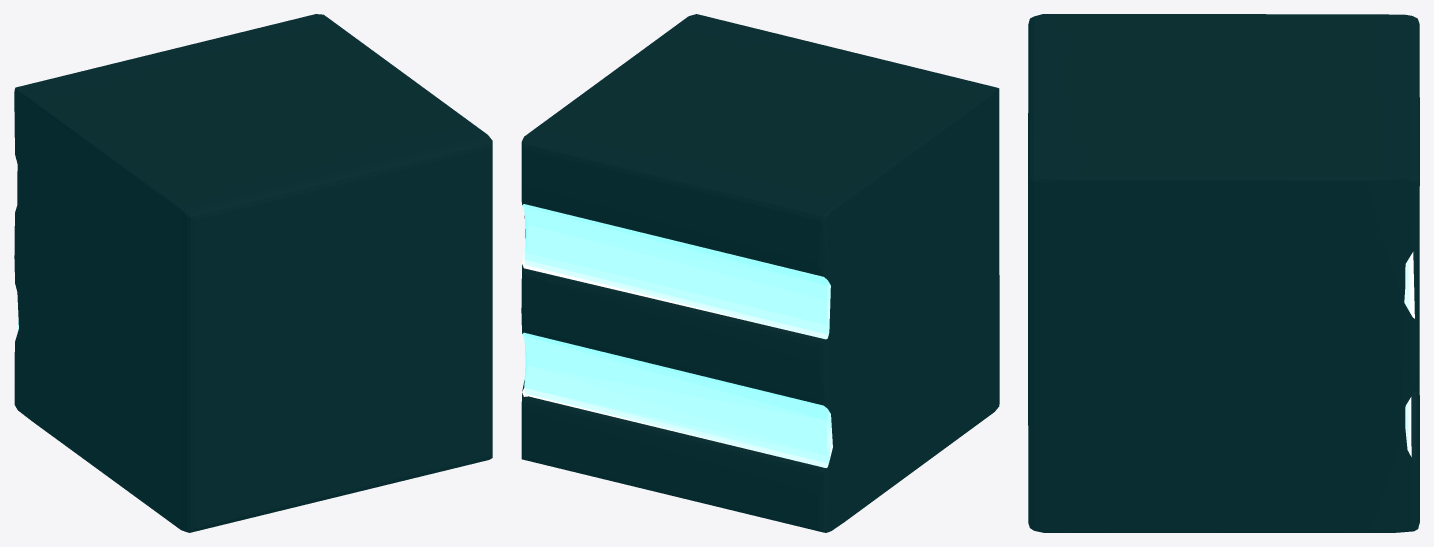
File: unilateral.glb
3 renders of one model, left to right at view 1: azimuth 30°, elevation 25°; view 2: azimuth 150°, elevation 25°; view 3: azimuth 270°, elevation 25°, orthographic. The views are drawn at different scales.
Parts seen in each view (by area): view 1: unilateral; view 2: unilateral; view 3: unilateral.
Boxes of the visible parts, x1,y1,x2,y2 form: unilateral: [14, 14, 492, 532]; unilateral: [521, 14, 999, 532]; unilateral: [1028, 14, 1419, 532].
Size of the model in its own units: 6 by 6 by 6.
